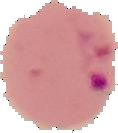parasitized: (73, 23, 112, 97)
